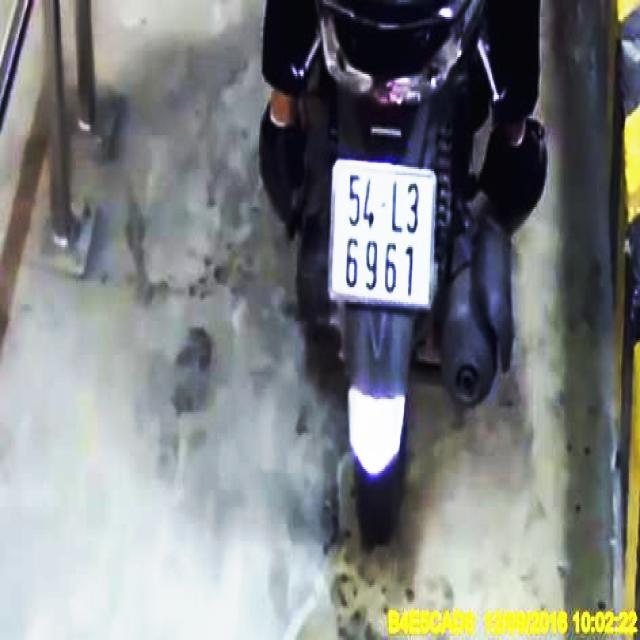license_plate: (330, 164, 433, 311)
